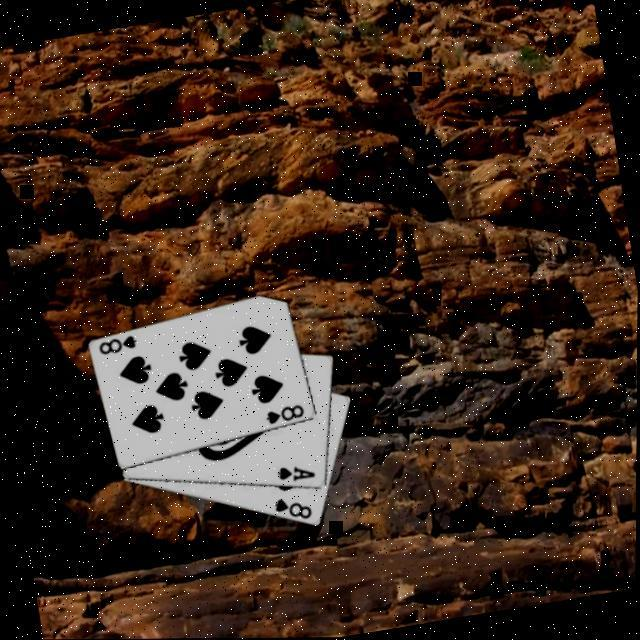8S: (272, 490, 317, 526), (263, 400, 309, 426), (96, 331, 142, 357)
AS: (275, 458, 320, 486)
